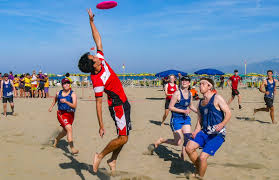disc: (96, 0, 118, 10)
